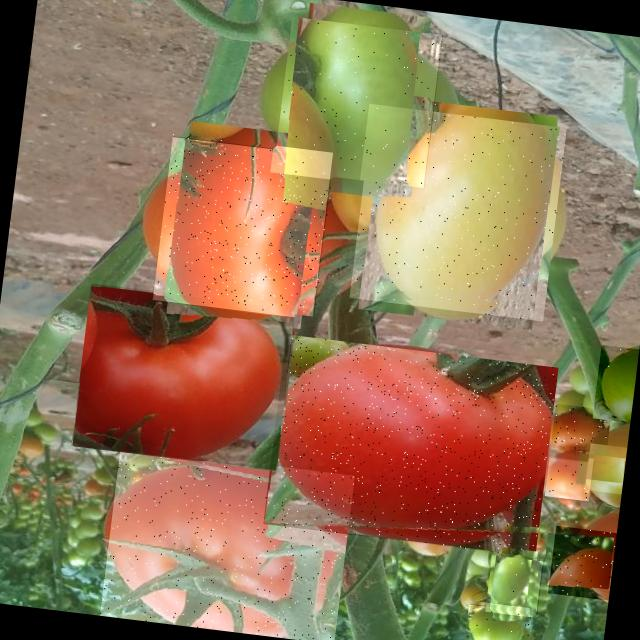Ripe Tomato: (263, 334, 558, 557), (99, 447, 354, 640), (70, 280, 296, 470), (153, 133, 336, 316), (548, 525, 616, 600), (550, 404, 611, 454), (544, 454, 593, 501)
Unripe Tomato: (349, 104, 566, 321), (274, 16, 446, 188), (592, 344, 639, 422), (486, 555, 546, 615), (463, 600, 533, 640), (584, 443, 626, 494)
